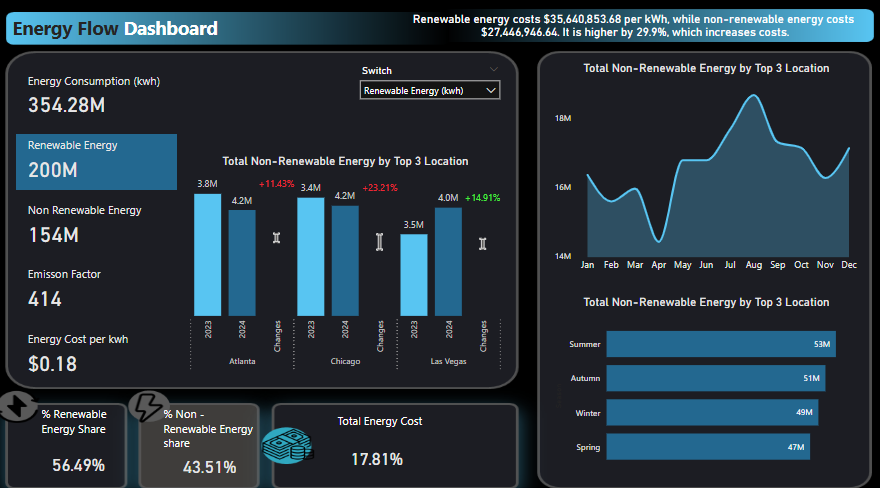

Layout of this report page (visuals, bound fields, positions):
{"tool":"powerbi","page":{"name":"Energy Report","canvas":[1280,720],"ordinal":0},"visuals":[{"type":"shape","box":[28.8,468,231.8,80.6],"z":0},{"type":"shape","box":[28.8,388.8,231.8,80.6],"z":1000},{"type":"shape","box":[28.8,288,231.8,80.6],"z":2000},{"type":"shape","box":[28.8,198.7,231.8,80.6],"z":3000},{"type":"shape","box":[28.8,93.6,231.8,86.4],"z":4000},{"type":"cardVisual","fields":{"Data":["DaxHouse.Total Energy Consumption (kwh)","DaxHouse.Renewable Energy (kwh)","DaxHouse.Non Renewable Energy (kwh)","DaxHouse.Emisson Factor (kg CO2/kwh)","DaxHouse.Energy Cost per kwh"]},"box":[28.8,93.6,231.8,469.4],"z":5000},{"type":"clusteredColumnChart","fields":{"Category":["Data.Location","Year Table.Year"],"Y":["Year Table.Yoy Change"]},"box":[260.6,227.5,485.3,321.1],"z":6000},{"type":"slicer","fields":{"Values":["Switch.Switch"]},"box":[514.1,93.6,221.8,64.8],"z":7000},{"type":"card","fields":{"Values":["DaxHouse.% Renewable Energy Share"]},"box":[70.6,650.9,95,49],"z":7001},{"type":"card","fields":{"Values":["DaxHouse.% Non Renewable Energy Share"]},"box":[252,650.9,110.9,53.3],"z":7002},{"type":"textbox","box":[60.5,586.1,115.2,53.3],"z":7003},{"type":"textbox","box":[236.2,586.1,141.1,77.8],"z":7004},{"type":"card","fields":{"Values":["DaxHouse.Total Energy cost"]},"box":[486.7,639.4,122.4,53.3],"z":7005},{"type":"textbox","box":[486.7,596.2,181.4,54.7],"z":7006},{"type":"lineChart","fields":{"Category":["Date Table.Month"],"Y":["DaxHouse.Renewable Energy (kwh)"]},"box":[799.2,93.6,447.8,312.5],"z":7007},{"type":"barChart","fields":{"Category":["Date Table.Season"],"Y":["DaxHouse.Renewable Energy (kwh)"]},"box":[799.2,430.6,447.8,263.5],"z":7008},{"type":"textbox","box":[18.7,21.6,334.1,50.4],"z":7009},{"type":"card","fields":{"Values":["DaxHouse.Energy Cost Summary"]},"box":[560.2,13,720,59],"z":7010}]}

Visuals, with their boxes in screenshot pixels (x1, y1, x2, y2), scaled from the page's 1280x720 canvas onto the 880x488 screenshot:
shape: crop(20, 317, 179, 372)
shape: crop(20, 264, 179, 318)
shape: crop(20, 195, 179, 250)
shape: crop(20, 135, 179, 189)
shape: crop(20, 63, 179, 122)
cardVisual - DaxHouse.Total Energy Consumption (kwh) x DaxHouse.Renewable Energy (kwh): crop(20, 63, 179, 382)
clusteredColumnChart - Data.Location x Year Table.Year: crop(179, 154, 513, 372)
slicer - Switch.Switch: crop(353, 63, 506, 107)
card - DaxHouse.% Renewable Energy Share: crop(49, 441, 114, 474)
card - DaxHouse.% Non Renewable Energy Share: crop(173, 441, 249, 477)
textbox: crop(42, 397, 121, 433)
textbox: crop(162, 397, 259, 450)
card - DaxHouse.Total Energy cost: crop(335, 433, 419, 469)
textbox: crop(335, 404, 459, 441)
lineChart - Date Table.Month x DaxHouse.Renewable Energy (kwh): crop(549, 63, 857, 275)
barChart - Date Table.Season x DaxHouse.Renewable Energy (kwh): crop(549, 292, 857, 470)
textbox: crop(13, 15, 243, 49)
card - DaxHouse.Energy Cost Summary: crop(385, 9, 879, 49)
